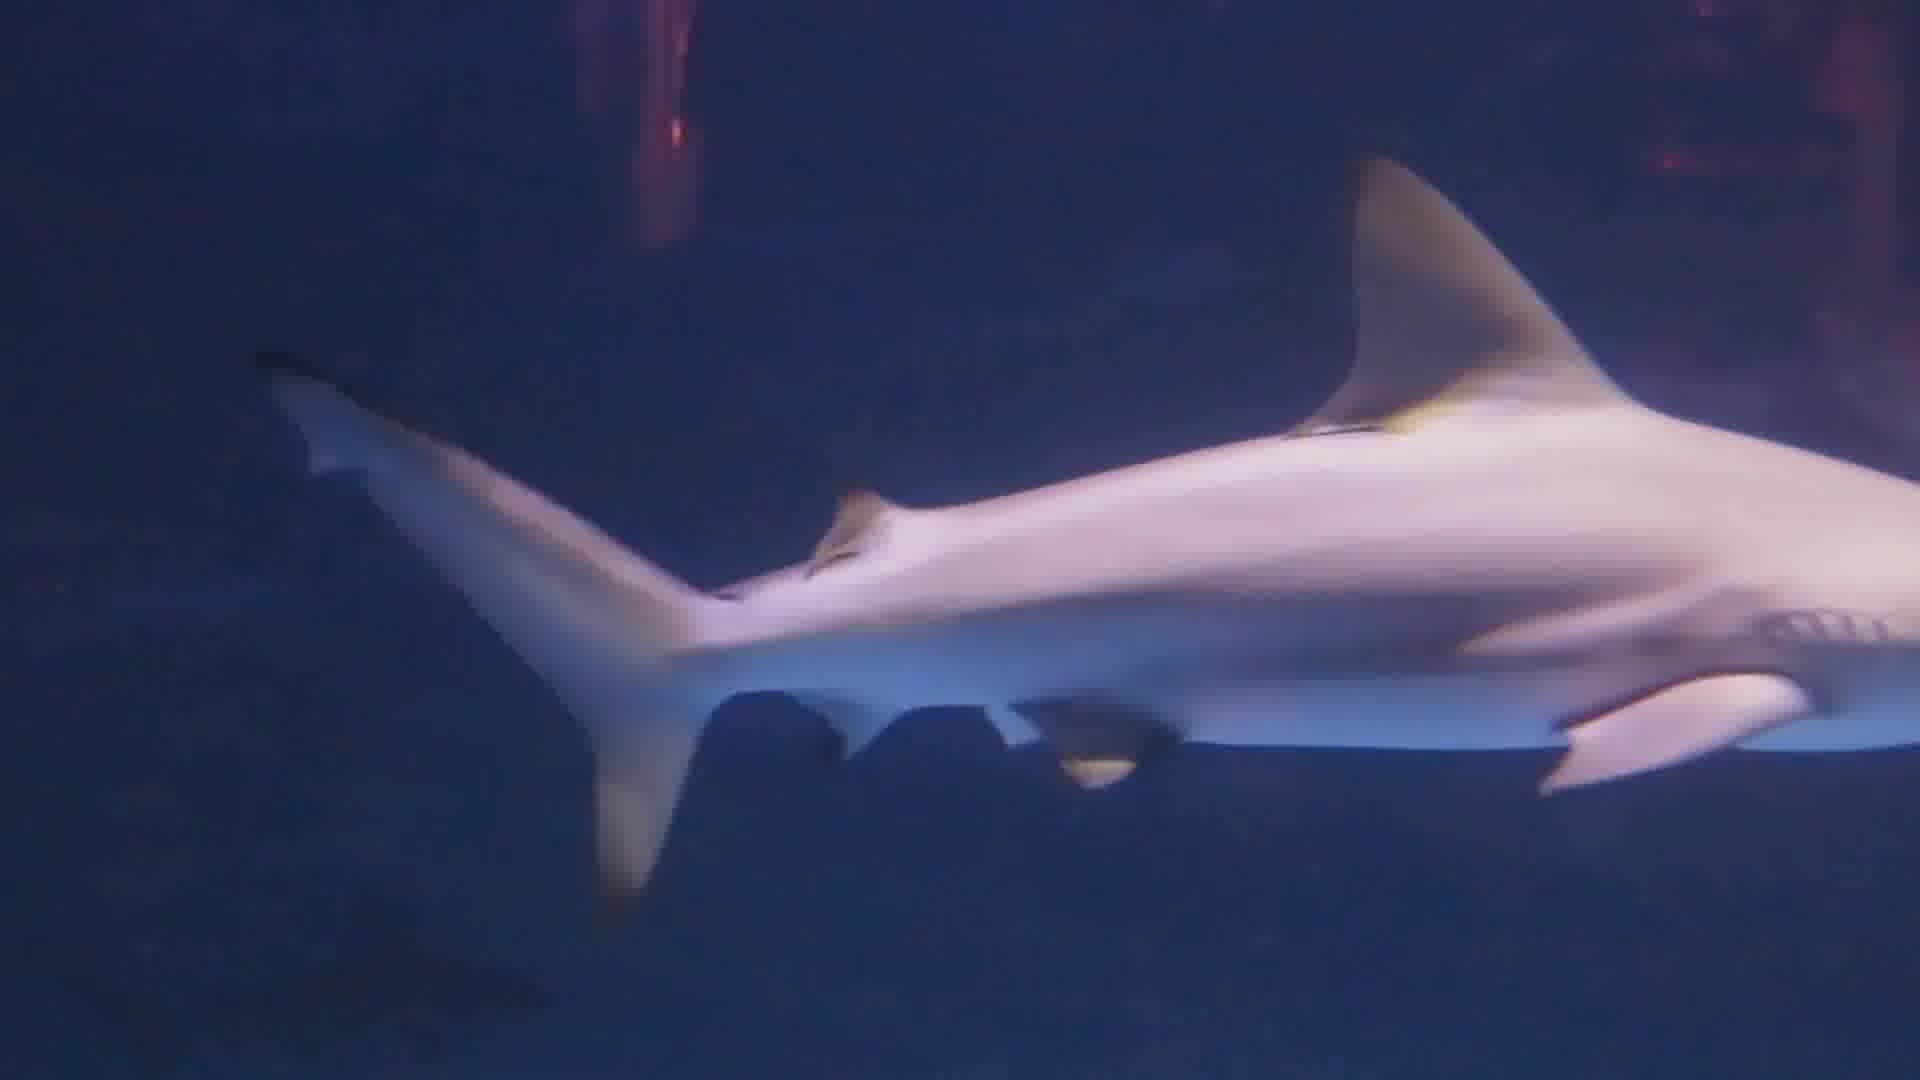Carcharhinus leucas: (274, 131, 1920, 959)
